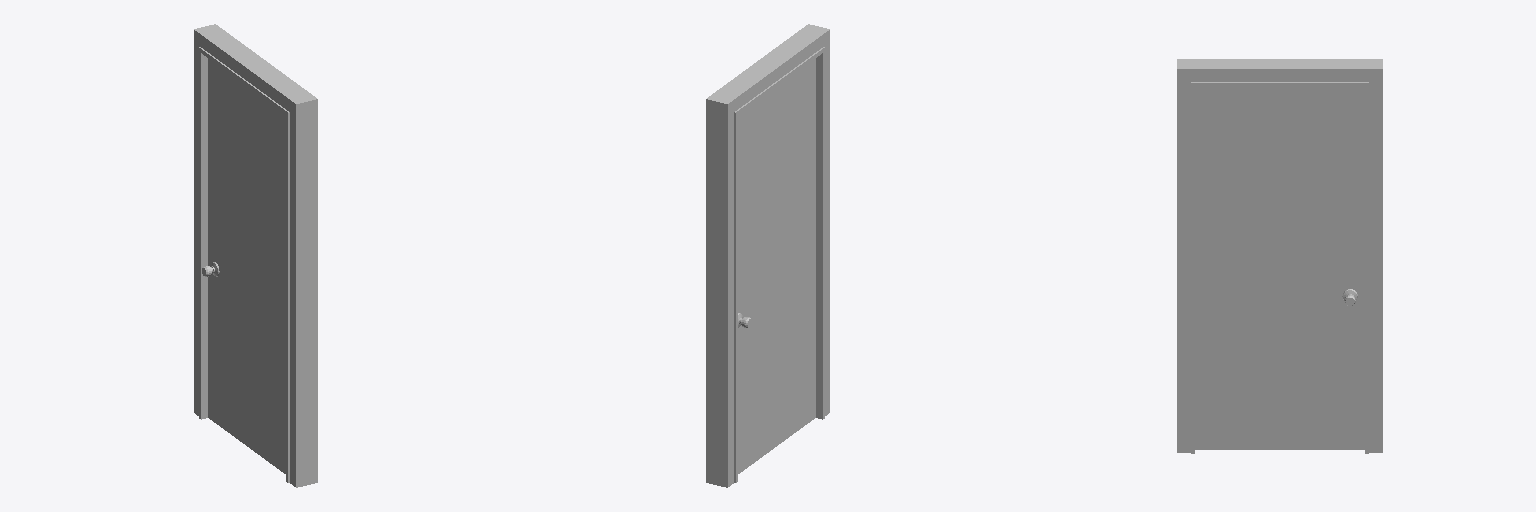
The model's file is door.obj.
The picture shows the model from 3 angles: view 1: azimuth 30°, elevation 25°; view 2: azimuth 150°, elevation 25°; view 3: azimuth 270°, elevation 25°; orthographic projection.
Parts seen in each view (by area): view 1: Door_low.002; view 2: Door_low.002; view 3: Door_low.002.
Part boxes in pixels (x1,y1,x2,y2): Door_low.002: (194, 24, 317, 487); Door_low.002: (706, 24, 829, 487); Door_low.002: (1177, 59, 1382, 453).
Bounding box in the file's own units: 0.2148 × 2.32 × 1.13.